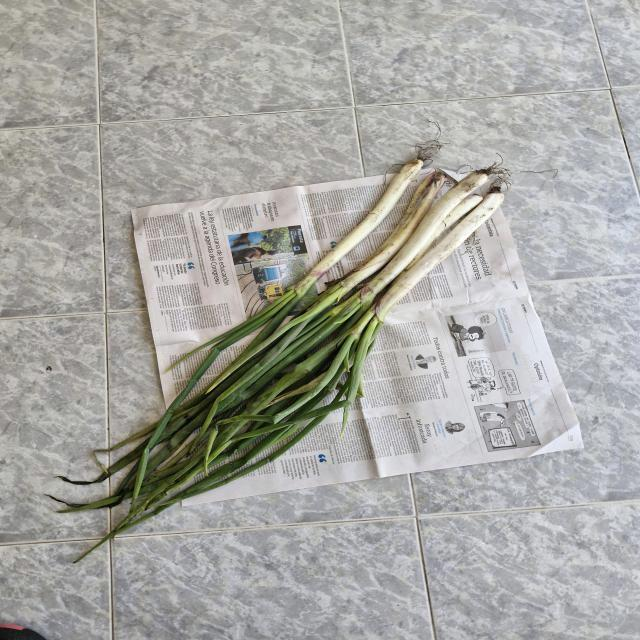green_onion: (142, 185, 503, 508), (133, 148, 433, 452)
